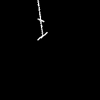double_crochet: (38, 2, 46, 39)
